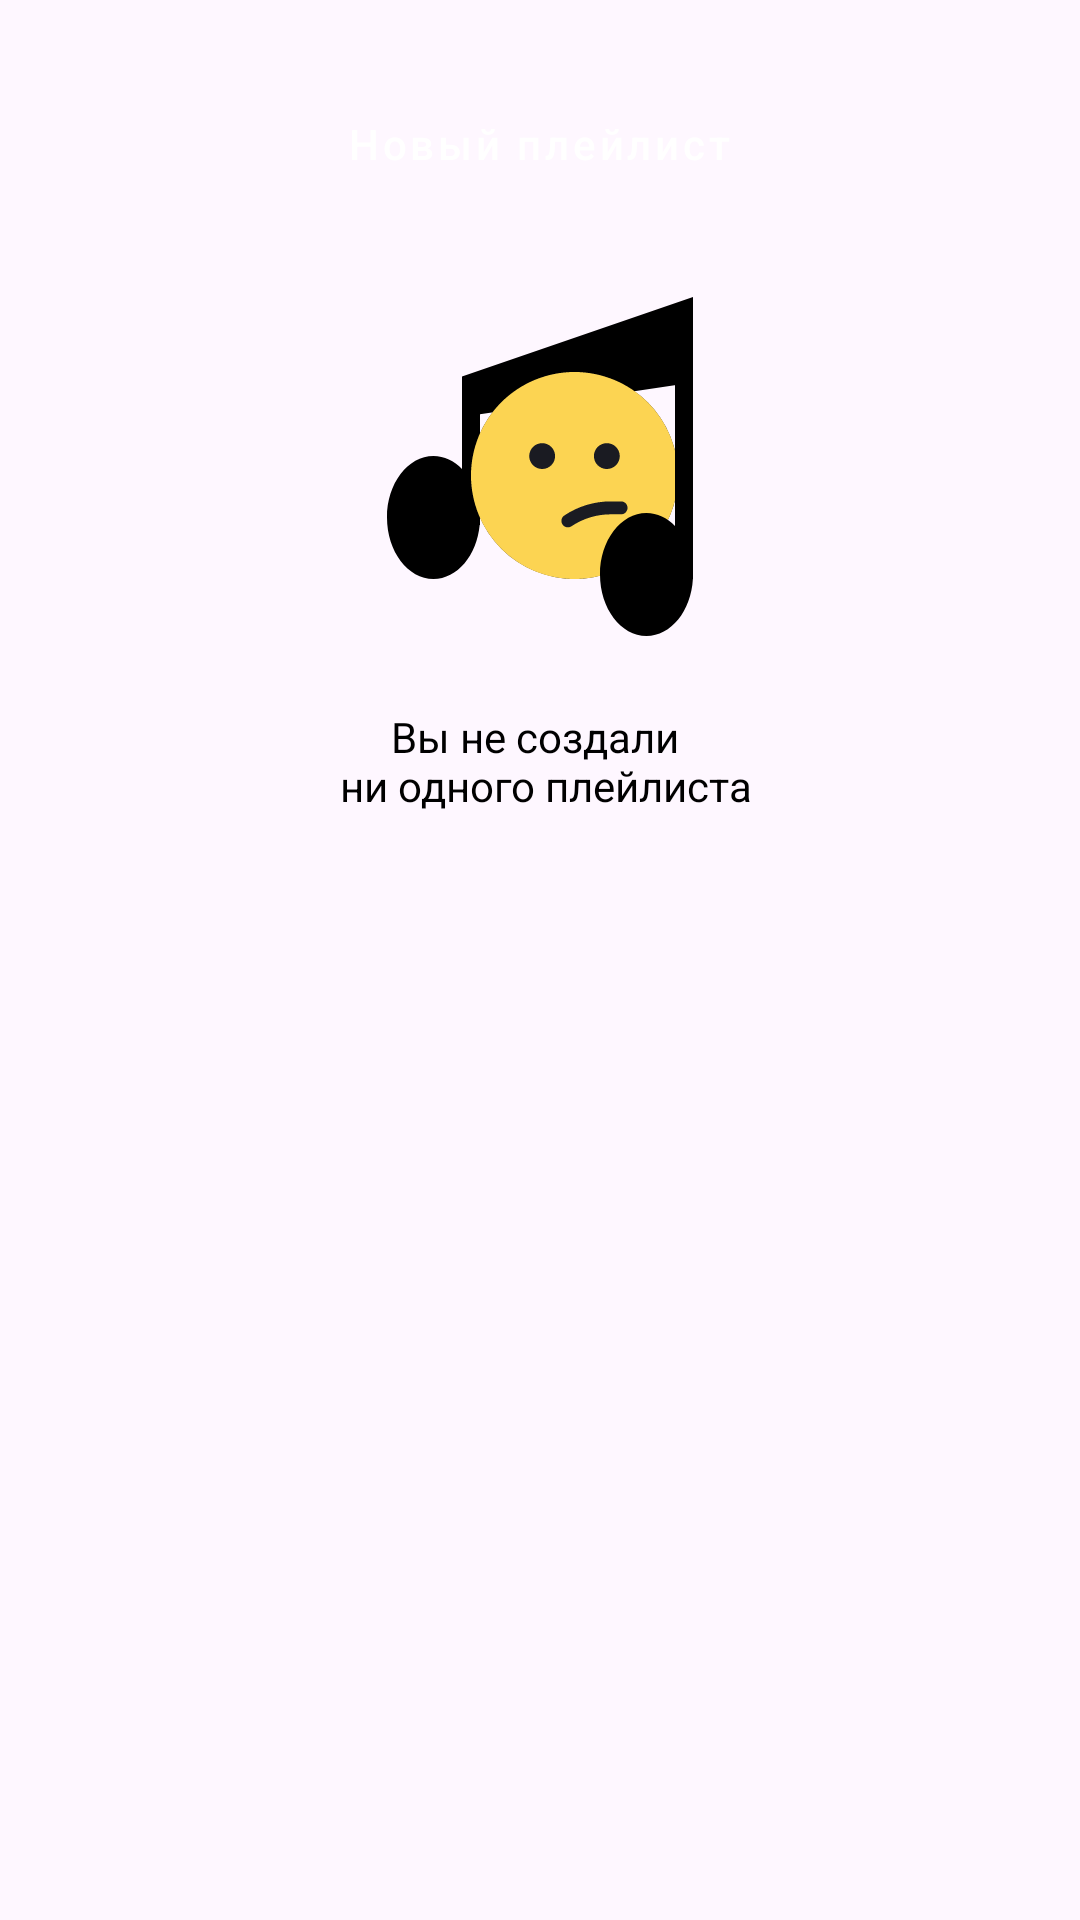

Screen size 1080 × 1920. Icon name, then its box in pixels as (x1, y1, x2, y2):
not found: (387, 297, 693, 636)
